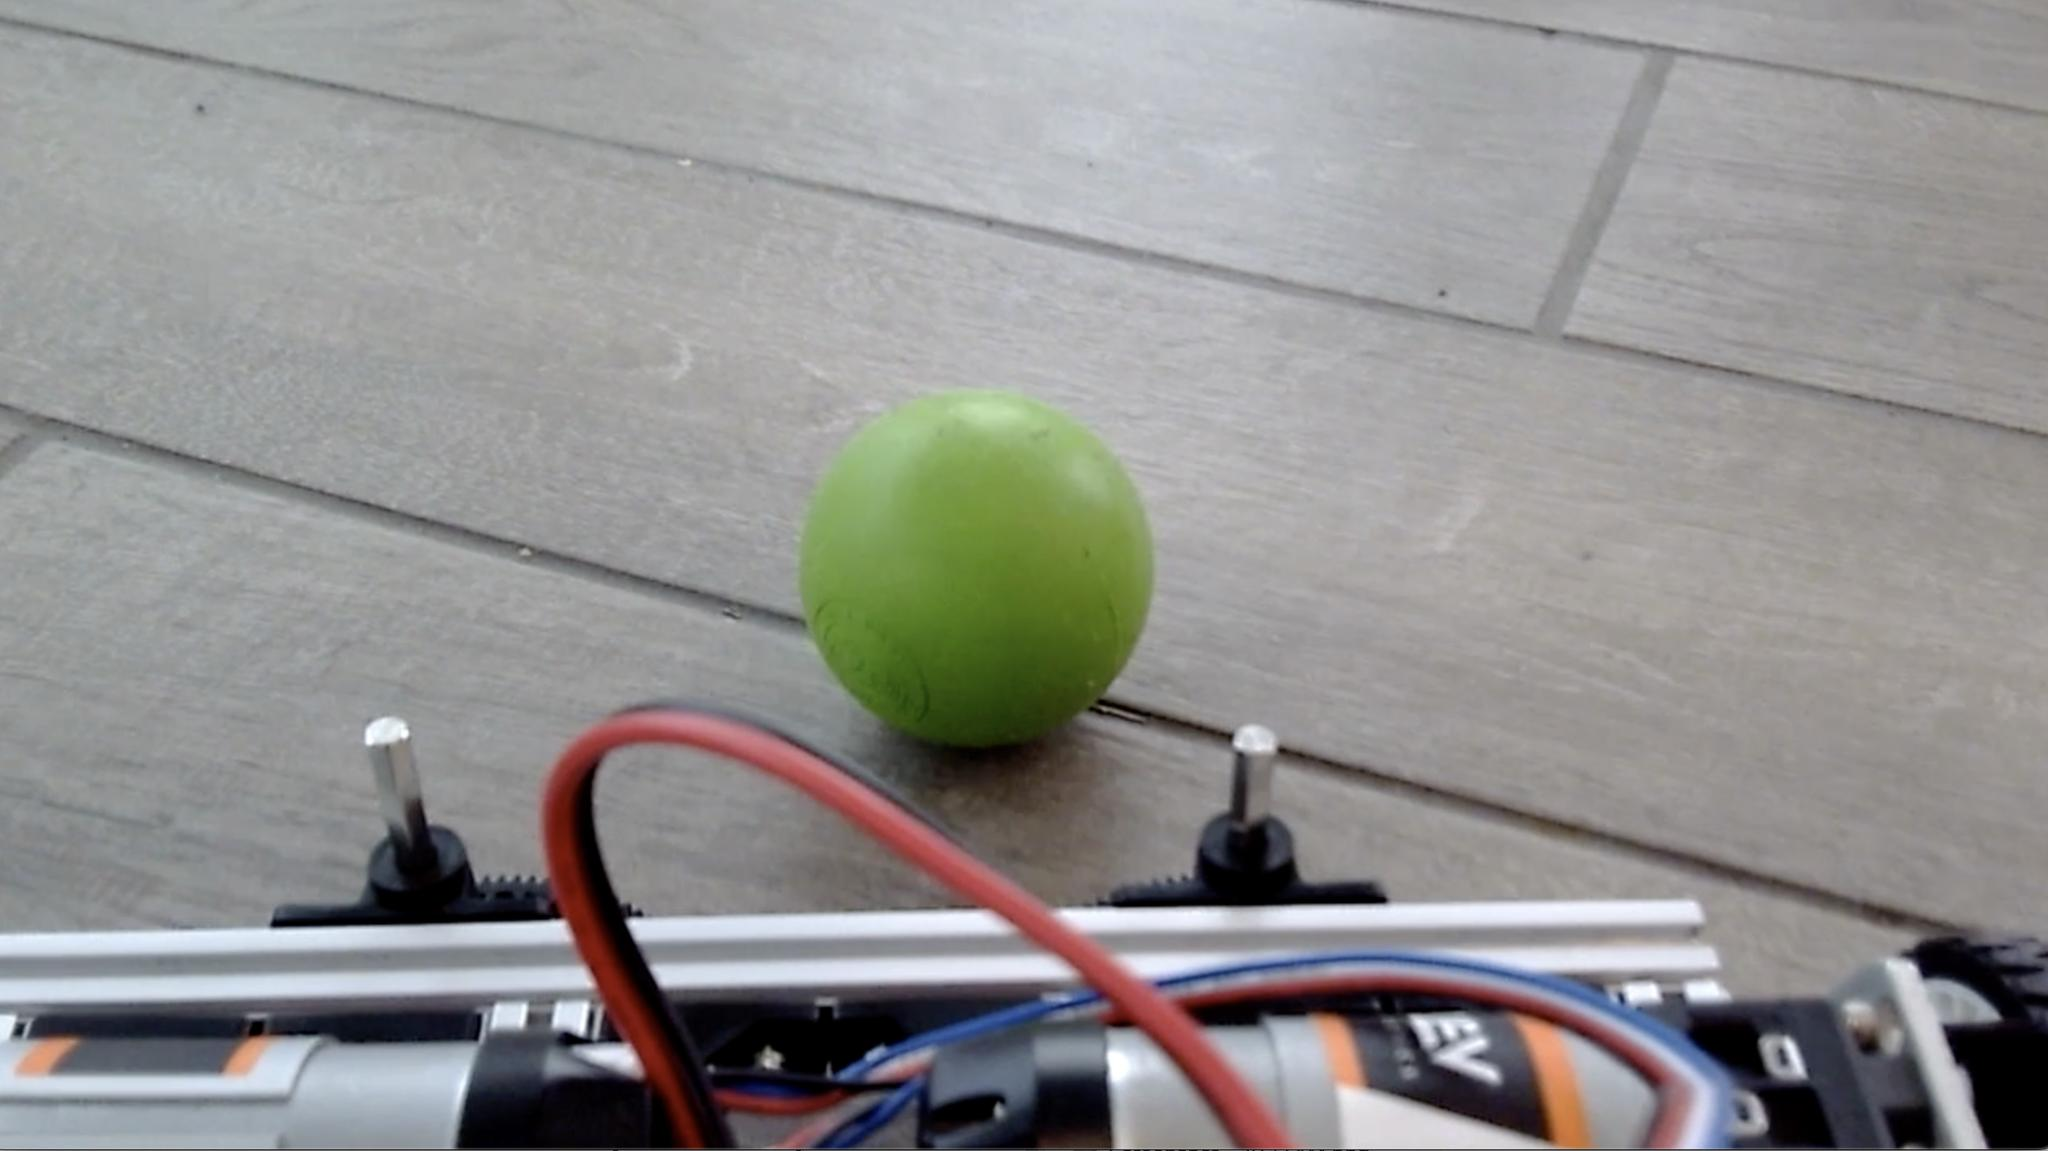Green Ball: (795, 384, 1158, 751)
